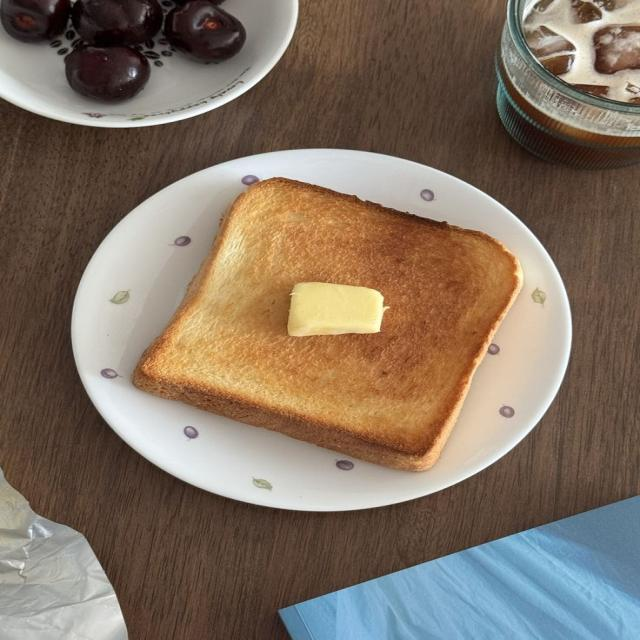toast bread: (134, 179, 521, 471)
